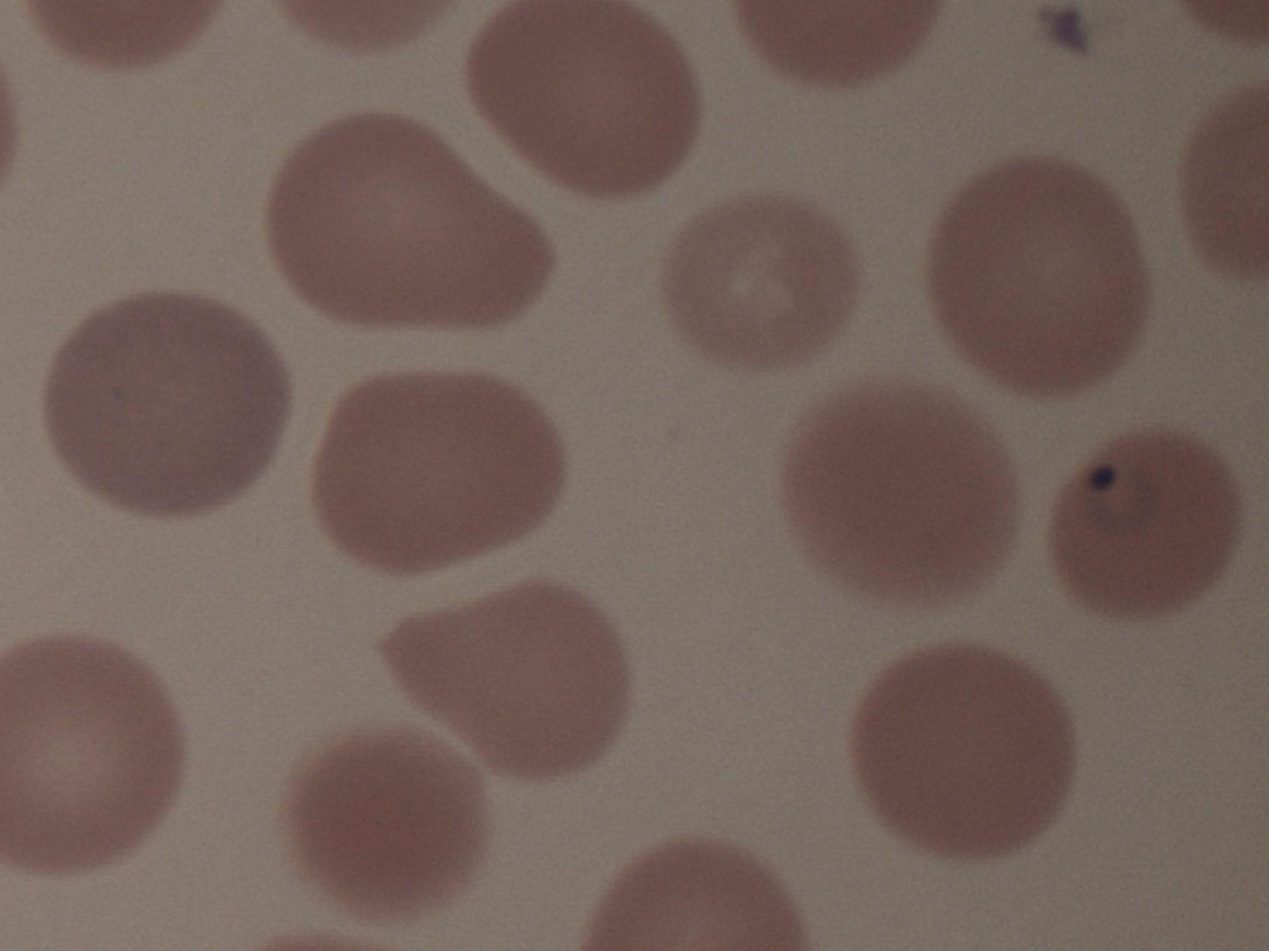Infected: (1046, 423, 1243, 621)
Uninfected: (268, 106, 560, 333), (929, 151, 1151, 398), (43, 294, 291, 514), (311, 369, 568, 580), (375, 580, 630, 783), (788, 382, 1017, 604), (849, 646, 1079, 860), (466, 0, 699, 198), (0, 640, 187, 872), (292, 731, 491, 919), (658, 190, 861, 371)
